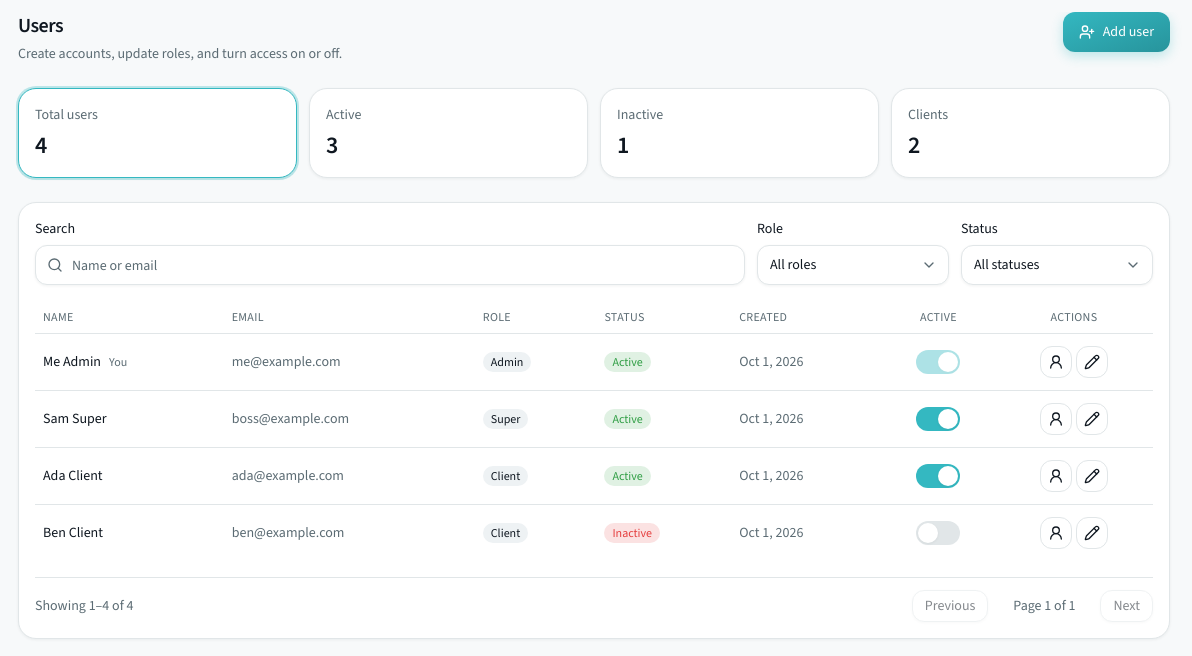
Test: ManageUsersPage › shows an empty state with a filter hint
Step 1. Select "Inactive" in the dropdown labelled "Status" → (1057, 265), box x1=961 y1=245 x2=1153 y2=285
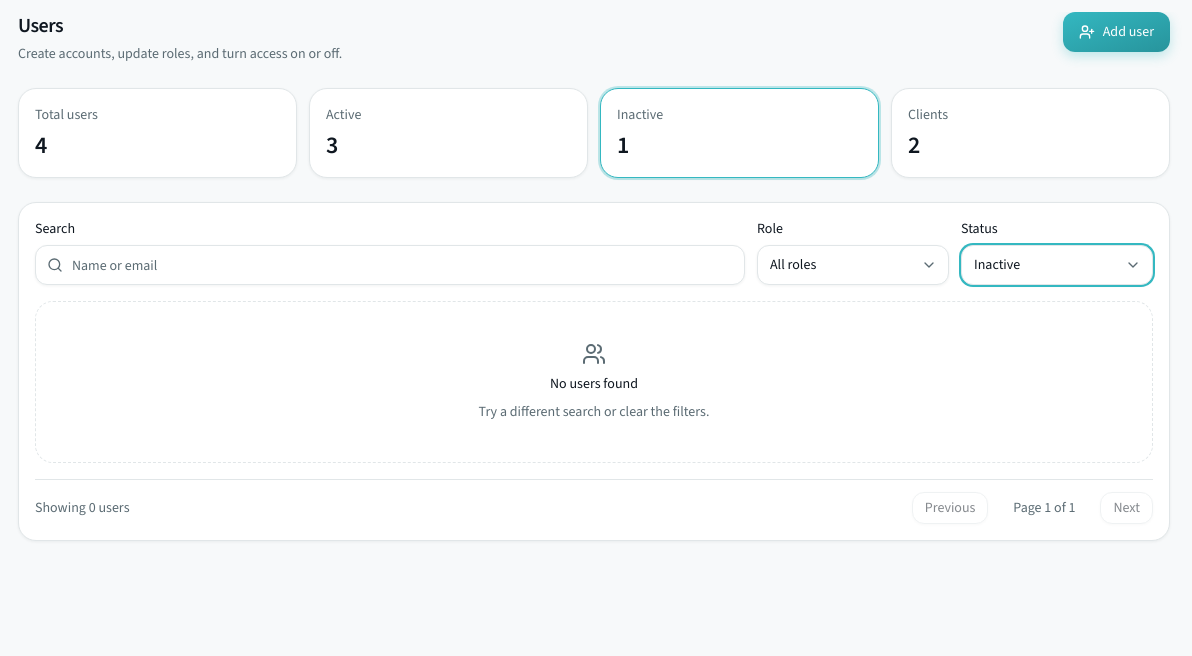
expect the text "No users found" is shown: met, box x1=550 y1=374 x2=638 y2=394
expect the text "Try a different search or clear the filters." is shown: met, box x1=478 y1=402 x2=709 y2=422
